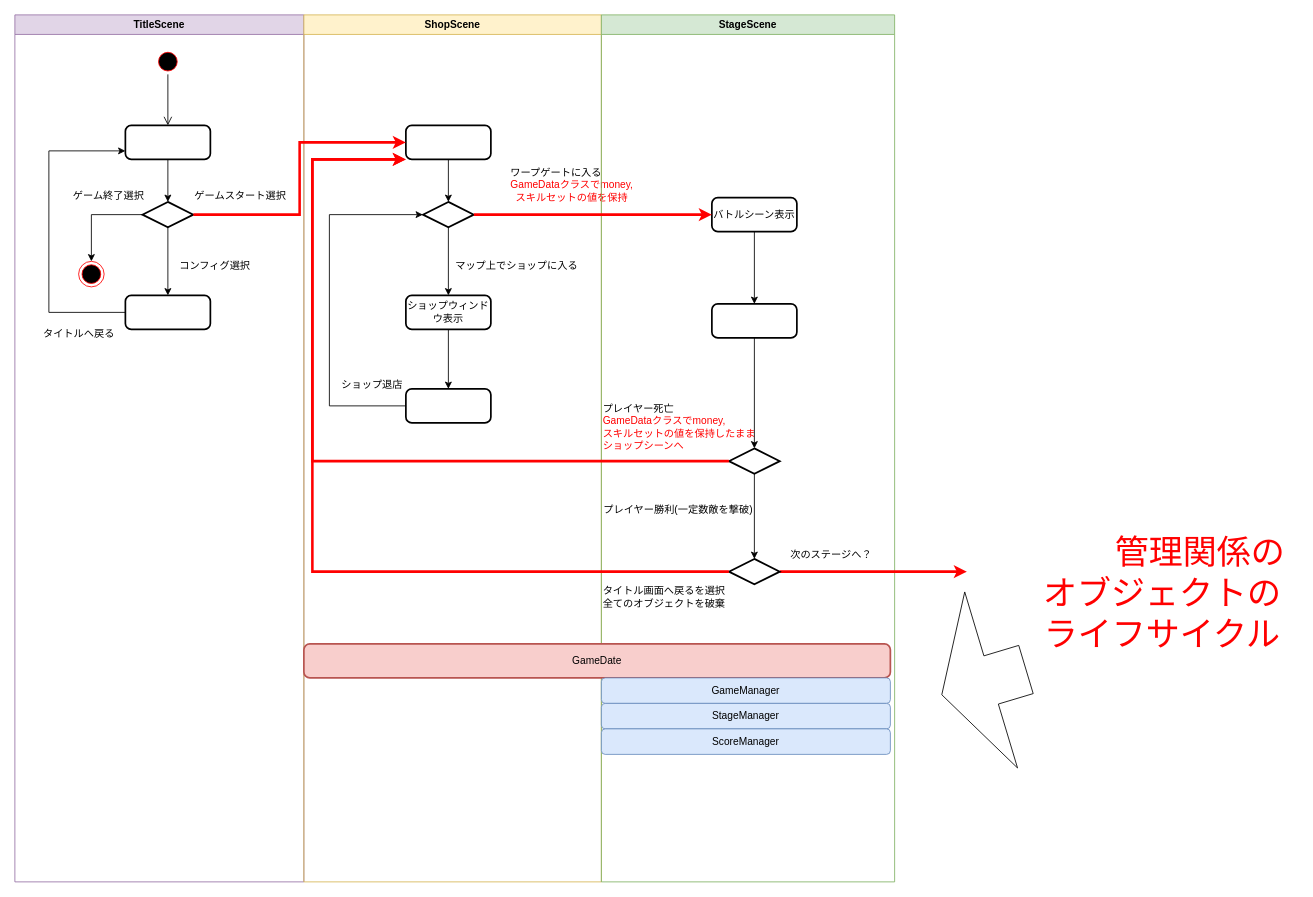
This 1313x897 diagram has some shape labels left out. Each missing label, with the centre of its shape:
"コンフィグ設定" goes at point 167,312.
"ショップシーン表示" goes at point 448,142.
"スキル購入＆スキルセット" goes at point 448,405.
"タイトル画面表示" goes at point 167,142.
"バトル開始" goes at point 754,320.
